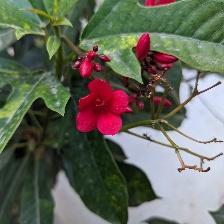jatropha: (76, 79, 131, 138)
